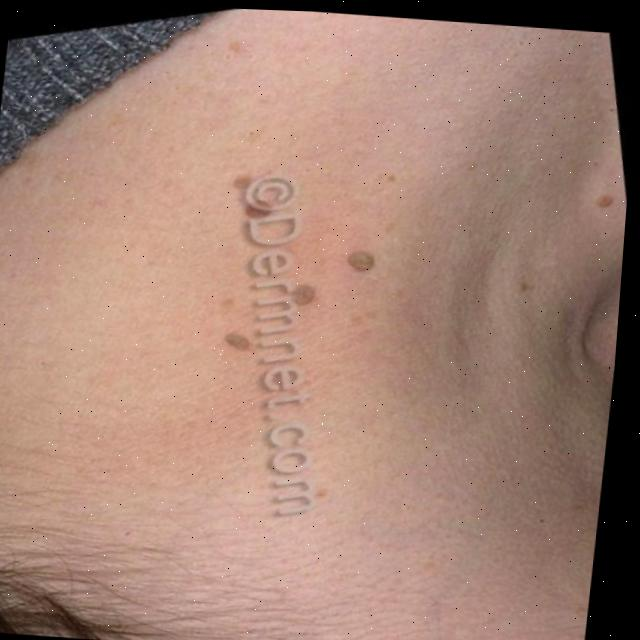Eczema: (225, 215, 376, 348)
